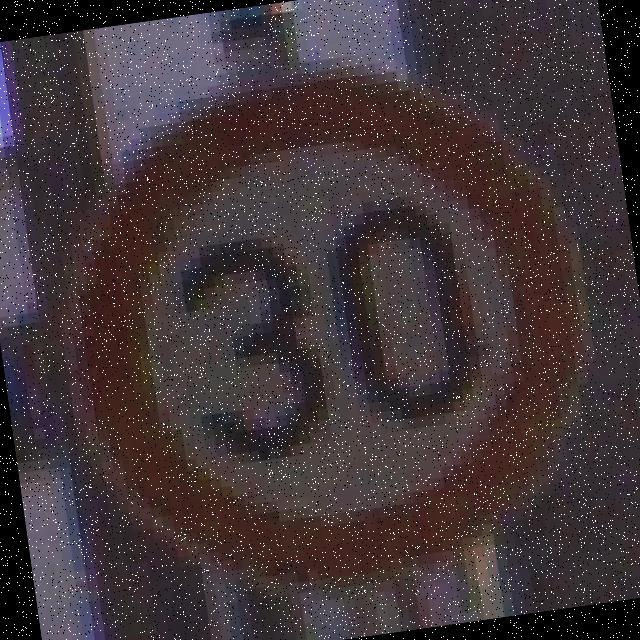Ograniczenie predkosci do 30: (44, 41, 628, 624)
